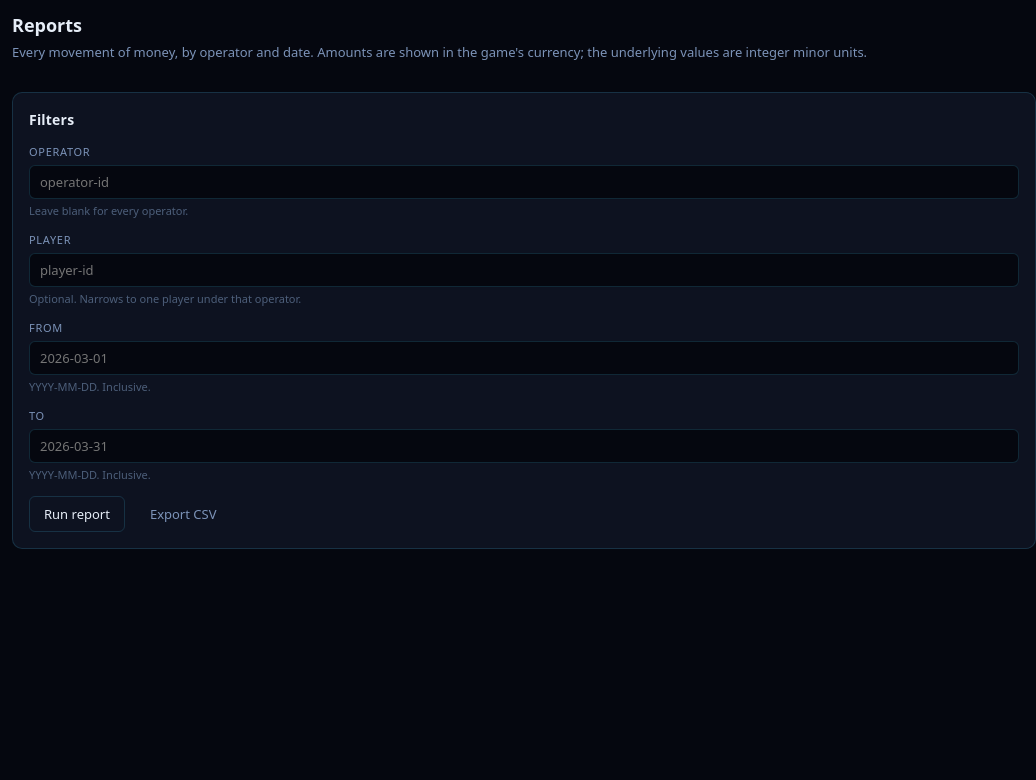
Test: the CSV export › warns when the export was truncated, instead of leaving it in a header
The image size is (1036, 780).
Click the button "Export CSV" at {"x": 183, "y": 514}, box [135,496,232,532]
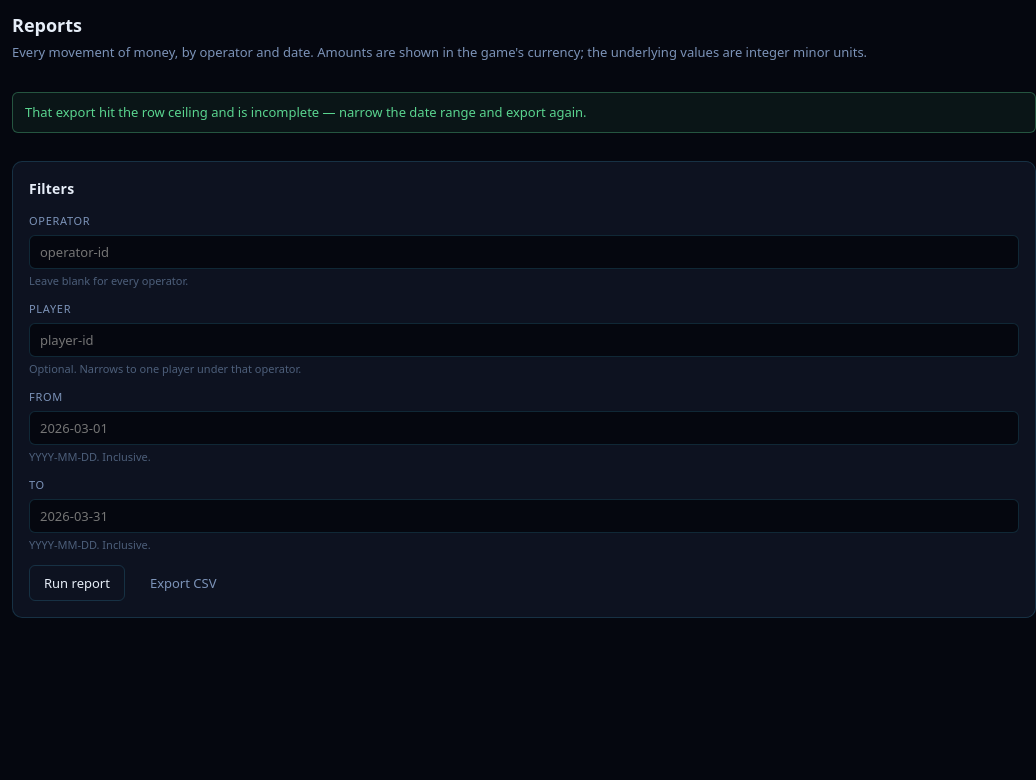
Check: the text "incomplete" is shown, box [25,102,587,120]
